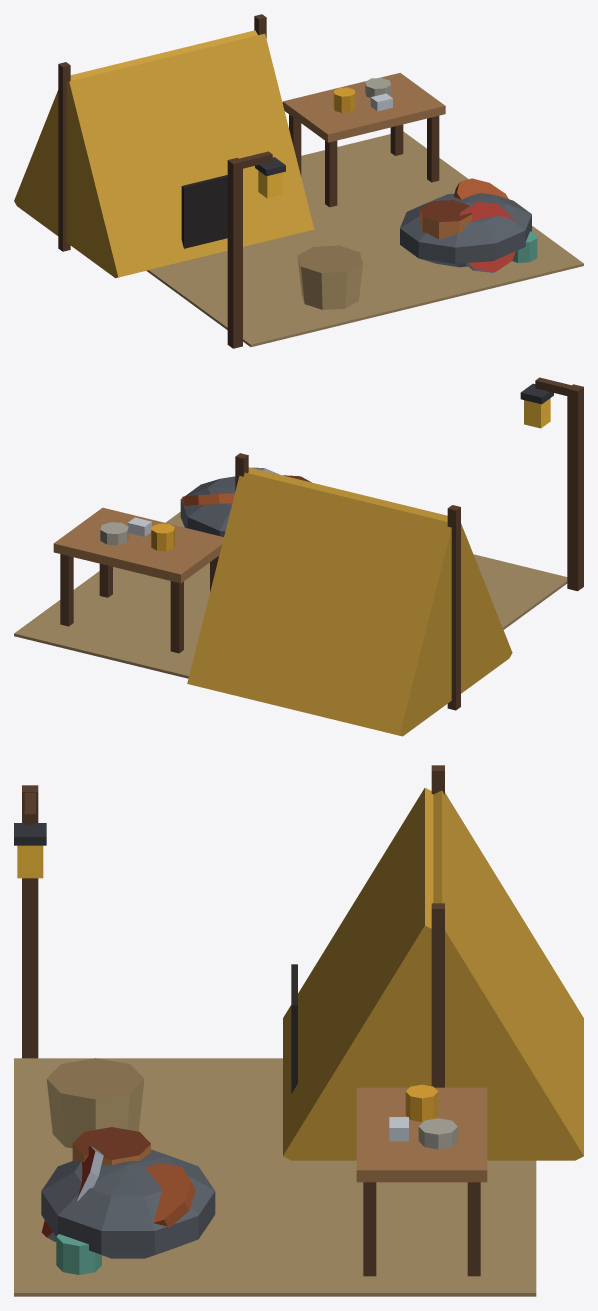
File: bld_rummage_camp_2x2.glb
3 renders of one model, top to bottom at view 1: azimuth 30°, elevation 25°; view 2: azimuth 150°, elevation 25°; view 3: azimuth 270°, elevation 25°, orthographic. The views are drawn at different scales.
Visible parts, largest first — view 1: bld_rummage_camp_2x22; view 2: bld_rummage_camp_2x22; view 3: bld_rummage_camp_2x22.
Part boxes in pixels (box(x1,y1,x2,y2)): bld_rummage_camp_2x22: box(14, 14, 583, 348); bld_rummage_camp_2x22: box(14, 377, 583, 736); bld_rummage_camp_2x22: box(14, 765, 583, 1296).
Bounding box in the file's own units: 1.92 × 0.9 × 1.75.
Materials: 1 (1 with a texture image).
